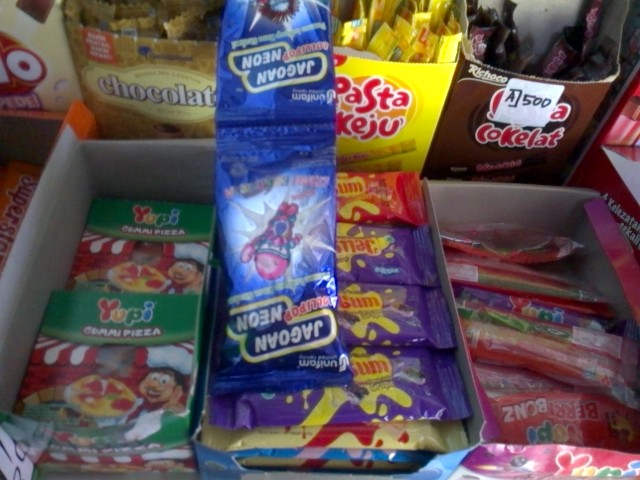jagoan neon: (211, 124, 357, 398), (214, 1, 335, 138)
